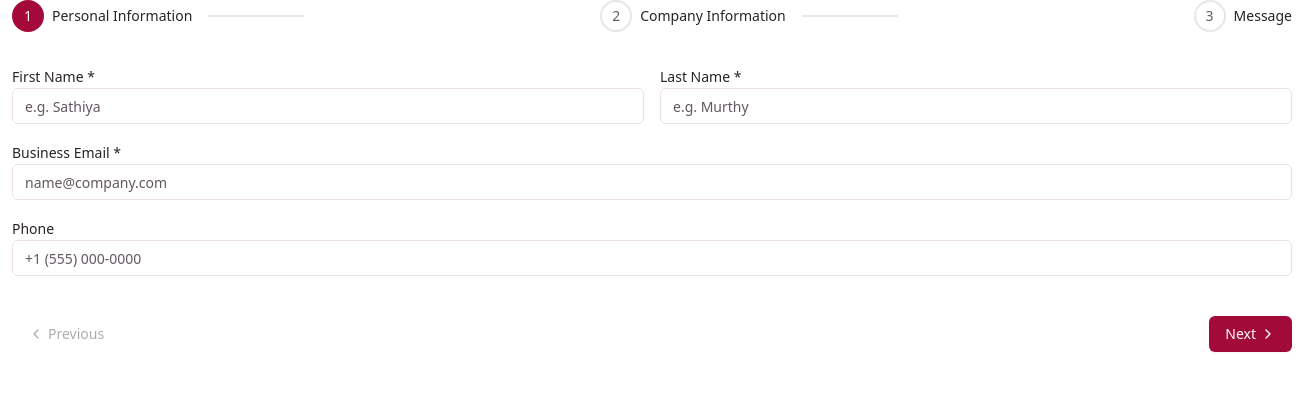
it: ContactForm › shows error validation on step 1 when empty fields submitted
The image size is (1304, 409).
Click the button "Next" at (1251, 334), box [1209,316,1292,352]
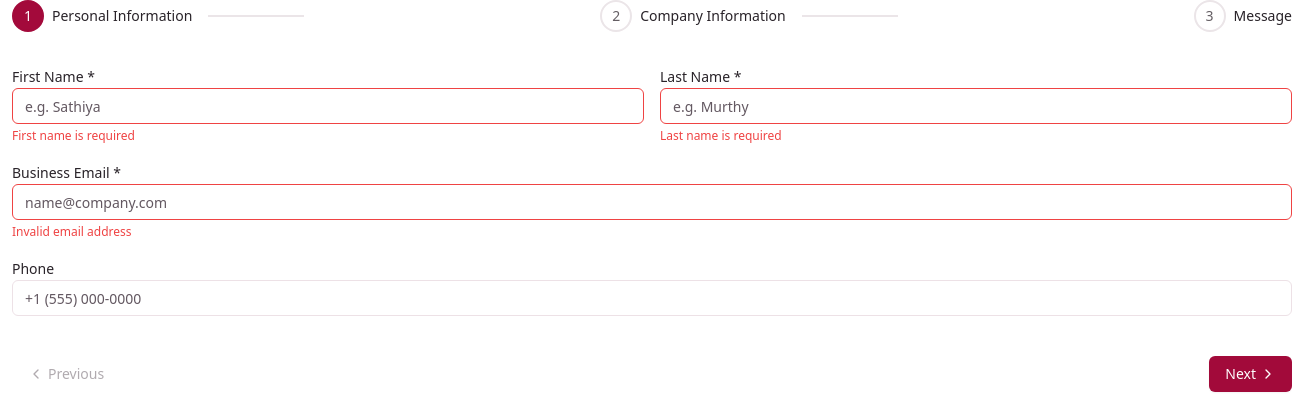
Check: the text "First name is required" is shown, box [12,127,135,144]
